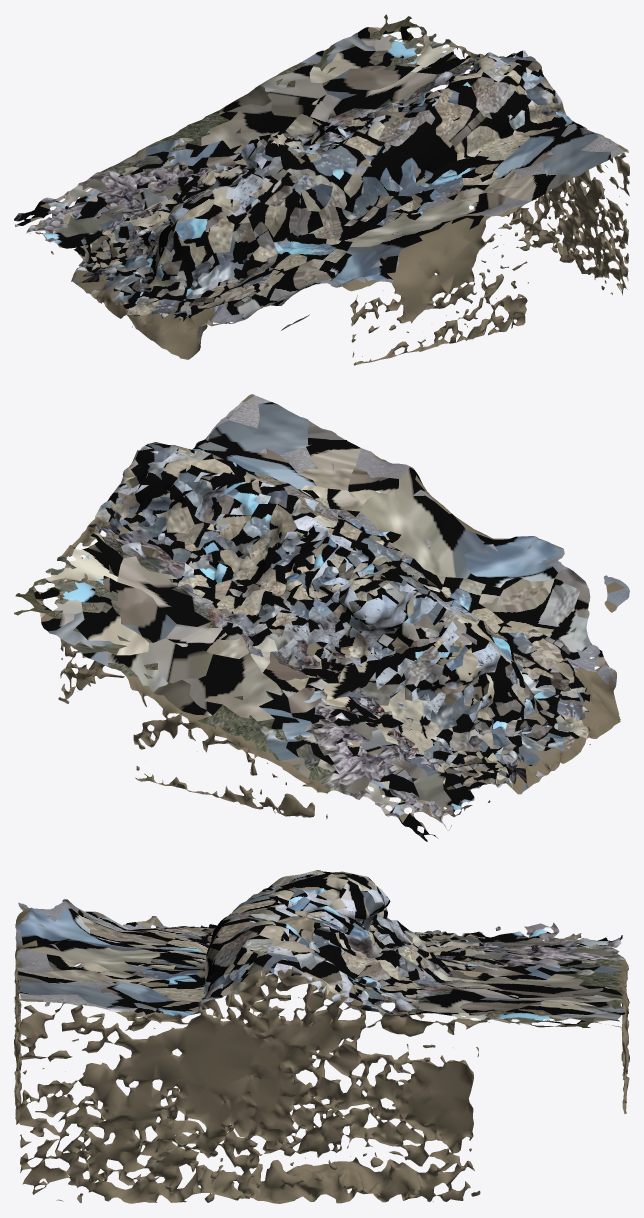
The model's file is mesh_lowpoly.obj.
3 views of the same model, one above another, from view 1: azimuth 30°, elevation 25°; view 2: azimuth 150°, elevation 25°; view 3: azimuth 270°, elevation 25° (orthographic). The views are drawn at different scales.
Size of the model in its own units: 4.07 by 1.73 by 4.06.
